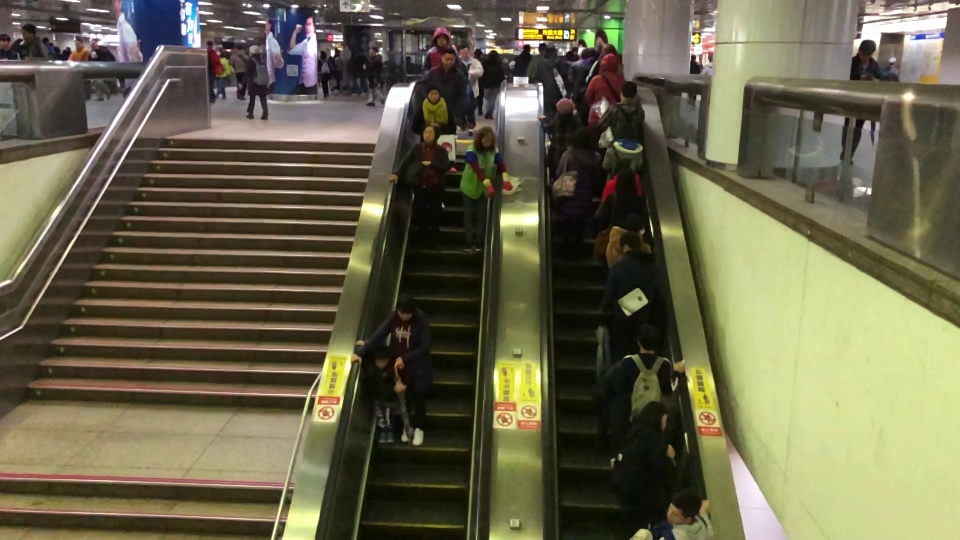person_head: (665, 488, 702, 523), (641, 400, 668, 432), (635, 324, 660, 353), (571, 127, 596, 150), (614, 167, 636, 193), (395, 293, 415, 321), (618, 230, 641, 252), (857, 39, 876, 62), (623, 214, 645, 233), (421, 123, 441, 143), (619, 80, 637, 102), (373, 345, 390, 368), (599, 53, 619, 72), (555, 97, 575, 115), (479, 125, 495, 146), (440, 47, 456, 67), (598, 43, 618, 59), (616, 124, 636, 140), (425, 83, 441, 102), (21, 23, 37, 39), (435, 28, 448, 46), (458, 44, 470, 60), (581, 47, 597, 59), (0, 32, 11, 49), (248, 44, 261, 56), (545, 46, 557, 58), (886, 56, 896, 68), (488, 49, 499, 59), (91, 38, 100, 50), (537, 42, 546, 54), (368, 46, 379, 55), (74, 38, 83, 48), (474, 47, 482, 56), (522, 44, 531, 52), (205, 40, 213, 47), (320, 50, 327, 58), (691, 53, 697, 59), (237, 43, 242, 50)
person_vbox: (349, 293, 433, 446), (608, 400, 682, 511), (602, 324, 686, 421), (389, 123, 450, 252), (459, 125, 513, 253), (600, 230, 663, 335), (554, 127, 601, 262), (410, 83, 454, 209), (838, 39, 881, 167), (424, 47, 467, 173), (354, 339, 397, 445), (537, 97, 582, 177), (653, 488, 713, 540), (601, 167, 646, 230), (605, 213, 652, 268), (536, 46, 572, 116), (458, 43, 485, 136), (238, 44, 271, 120), (602, 81, 645, 139), (601, 124, 643, 182), (585, 53, 625, 107), (422, 27, 449, 82), (68, 38, 92, 99), (90, 37, 112, 101), (484, 49, 504, 119), (364, 44, 386, 107), (585, 43, 618, 84), (17, 23, 48, 60), (230, 42, 250, 99), (205, 40, 223, 103), (574, 47, 597, 96), (686, 53, 701, 106), (474, 48, 485, 115), (317, 50, 332, 99), (525, 42, 546, 77), (512, 44, 531, 76), (880, 55, 901, 81), (699, 58, 713, 75)
